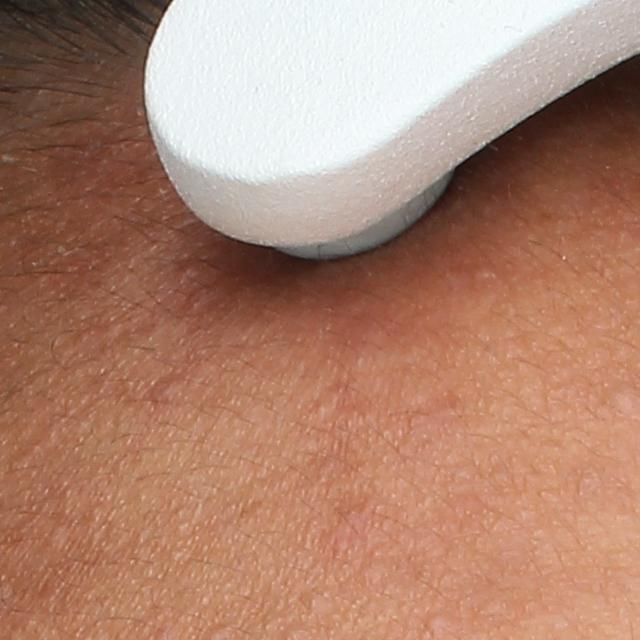comedo: (425, 613, 451, 633)
